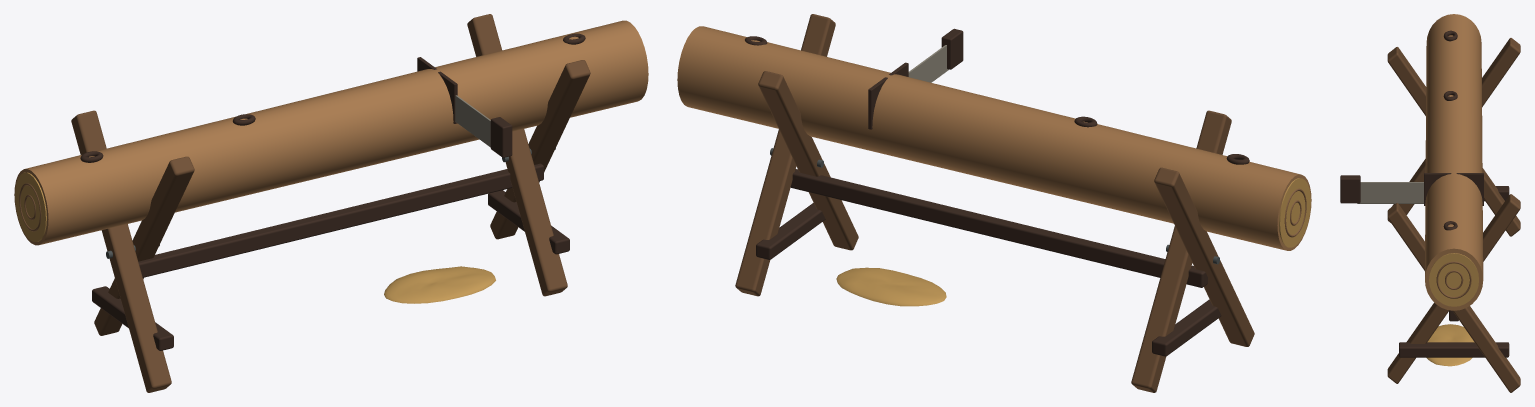
File: detail_sawhorse.glb
3 renders of one model, left to right at view 1: azimuth 30°, elevation 25°; view 2: azimuth 150°, elevation 25°; view 3: azimuth 270°, elevation 25°, orthographic. The views are drawn at different scales.
Parts seen in each view (by area): view 1: wood, metal; view 2: wood, metal; view 3: wood, metal.
Part boxes in pixels (left/top/right/bottom): wood: left=14, top=14, right=648, bottom=392; metal: left=19, top=95, right=555, bottom=258; wood: left=677, top=14, right=1311, bottom=392; metal: left=770, top=45, right=1306, bottom=264; wood: left=1340, top=14, right=1520, bottom=392; metal: left=1357, top=182, right=1471, bottom=298.
Size of the model in its own units: 2.5 by 0.9 by 0.8.
